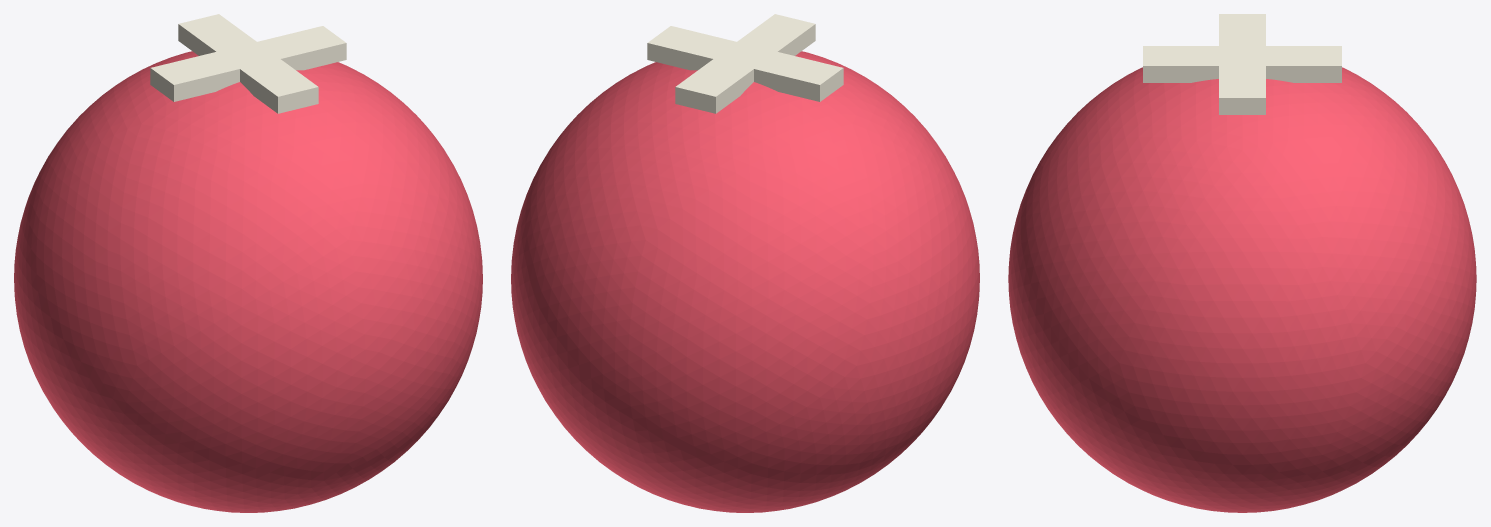
The model's file is modelo.glb.
3 views of the same model, side by side, from view 1: azimuth 30°, elevation 25°; view 2: azimuth 150°, elevation 25°; view 3: azimuth 270°, elevation 25° (orthographic).
Parts seen in each view (by area): view 1: proton, mais_horizontal, mais_vertical; view 2: proton, mais_horizontal, mais_vertical; view 3: proton, mais_vertical, mais_horizontal.
Part boxes in pixels (left/top/right/bottom): proton: left=14, top=51, right=482, bottom=512; mais_horizontal: left=150, top=26, right=346, bottom=101; mais_vertical: left=178, top=14, right=318, bottom=113; proton: left=511, top=51, right=979, bottom=512; mais_horizontal: left=647, top=26, right=843, bottom=101; mais_vertical: left=675, top=14, right=815, bottom=113; proton: left=1008, top=67, right=1476, bottom=512; mais_vertical: left=1143, top=46, right=1341, bottom=82; mais_horizontal: left=1219, top=14, right=1265, bottom=114.
Size of the model in its own units: 0.2 by 0.205 by 0.2.
